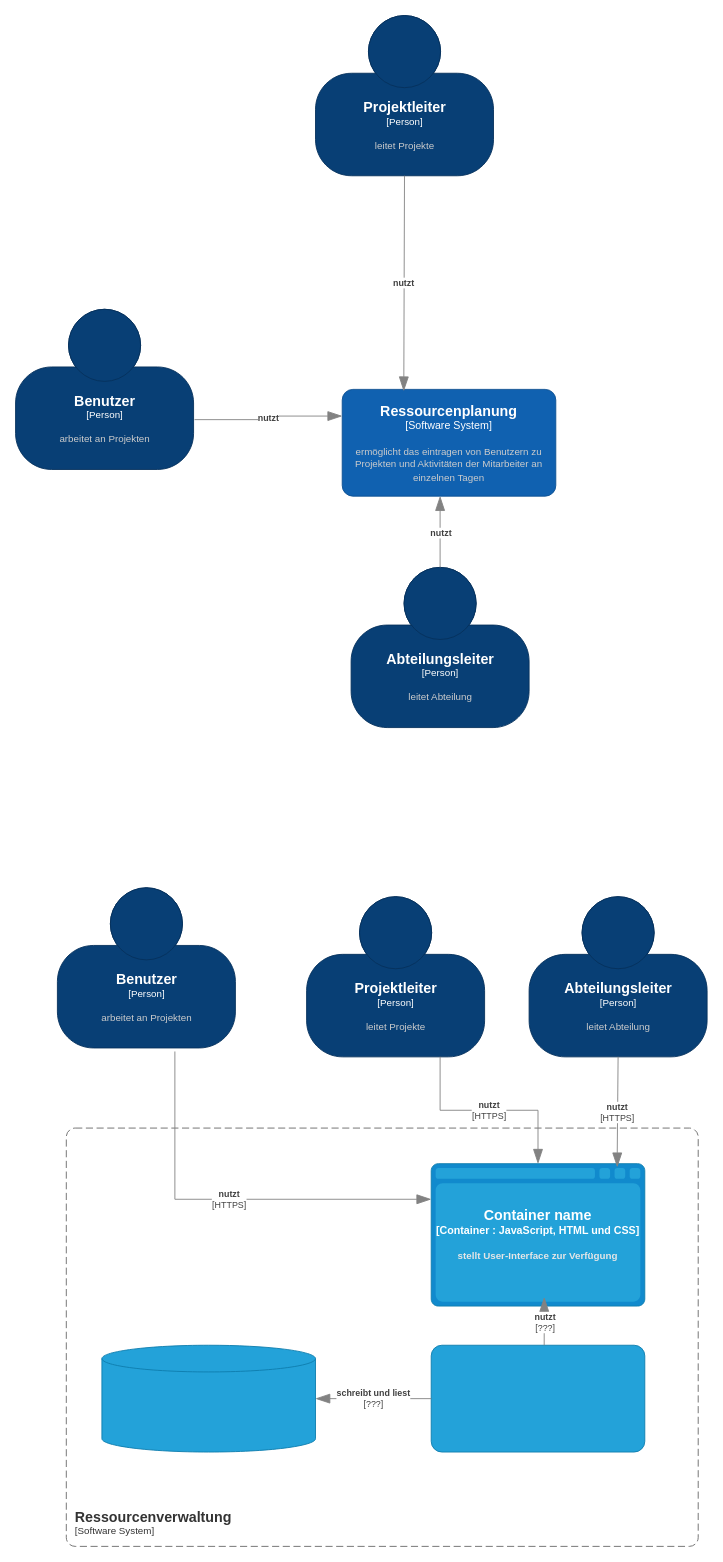
Image size: 723x1562. Some labels were removed from this diagram. The shapes that lost their labels are listed below. From the top down, each one's centre as x and y in pixels, then its label:
At (208,1398): "Datenbank [Datenbank: Maria DB] Speichert Datenbankobjekte".
At (537,1398): "Backend [Container: PHP] stellt Funktionalität zur Verfügung".
